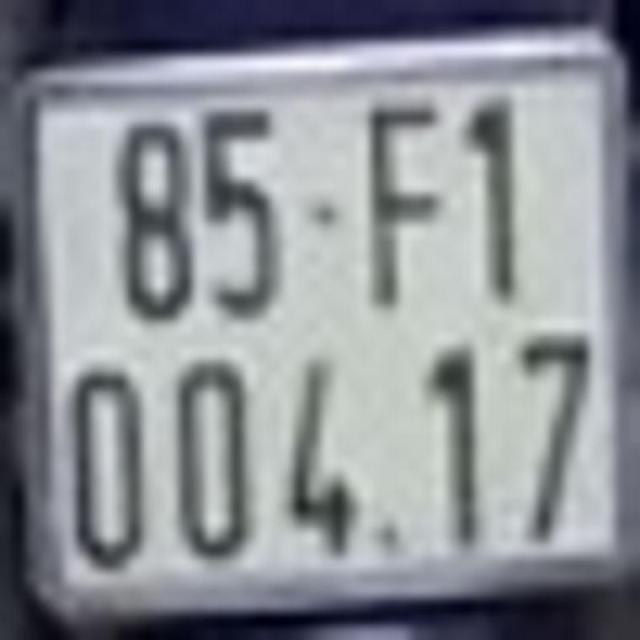0: (175, 346, 251, 561), (70, 366, 144, 566)
1: (428, 334, 487, 548), (462, 88, 520, 299)
4: (280, 356, 360, 554)
5: (199, 98, 284, 309)
7: (520, 334, 588, 542)
8: (122, 121, 195, 312)
F: (362, 98, 444, 312)
